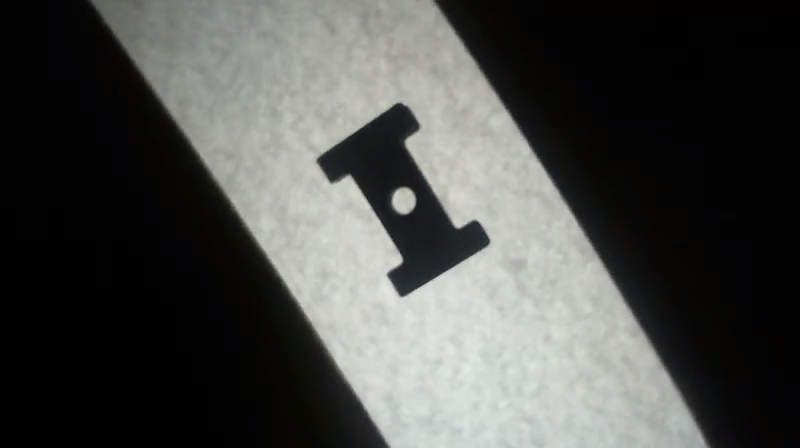O002: (312, 100, 495, 300)
